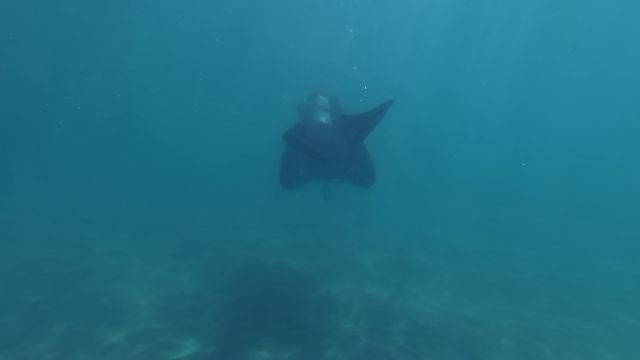Diver: (263, 101, 410, 193)
